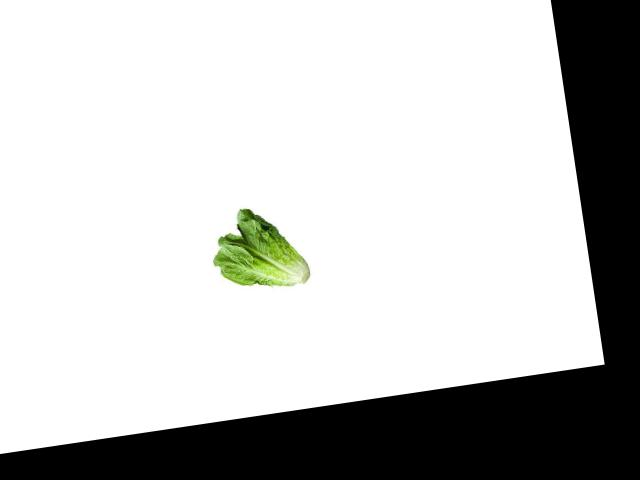lettuce: (206, 196, 318, 304)
